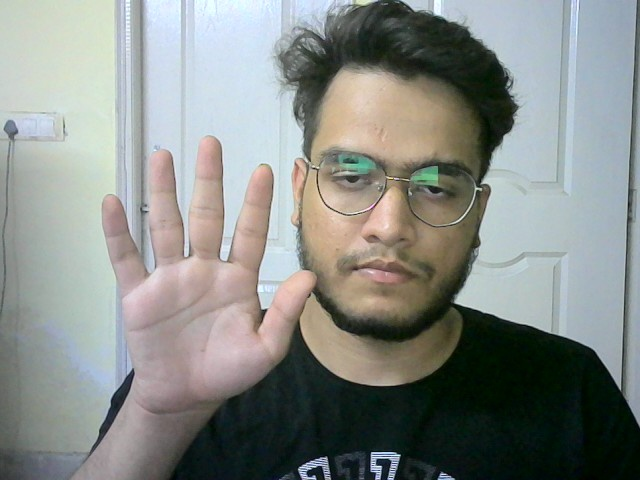Hello: (97, 132, 318, 409)
